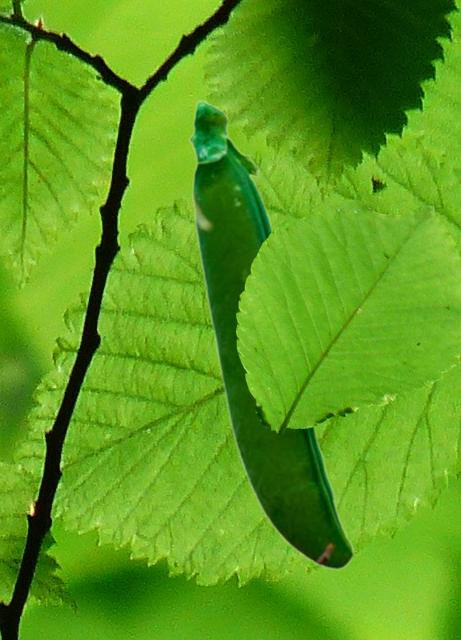pea: (188, 98, 353, 569)
